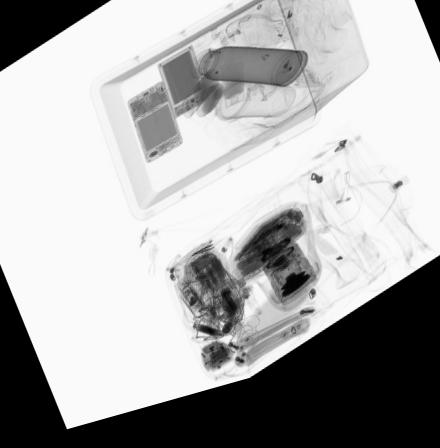Powerbank: (157, 55, 211, 128)
